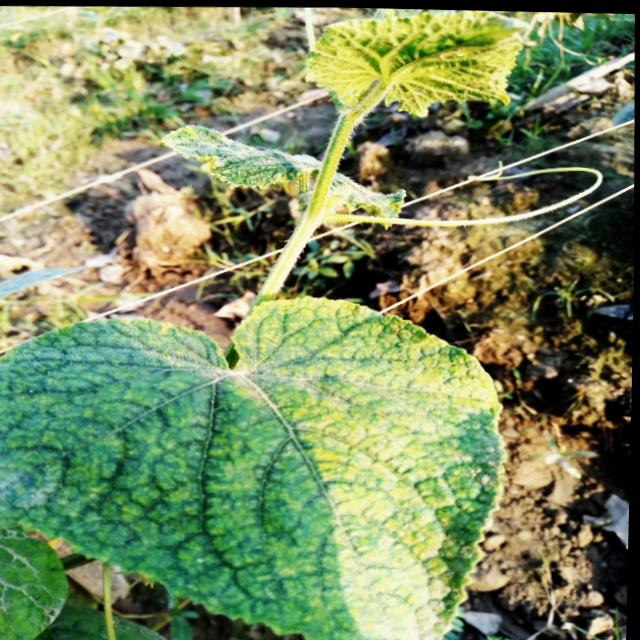Fresh-Leaf: (302, 10, 521, 119)
